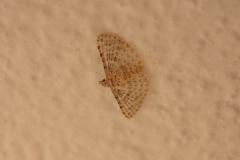Alucitidae: (90, 33, 150, 122)
moth: (92, 35, 152, 124)
